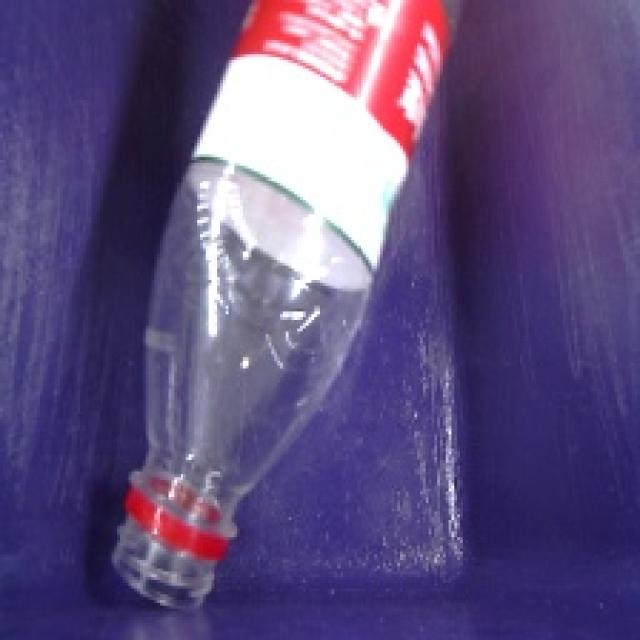plastic: (75, 0, 531, 633)
